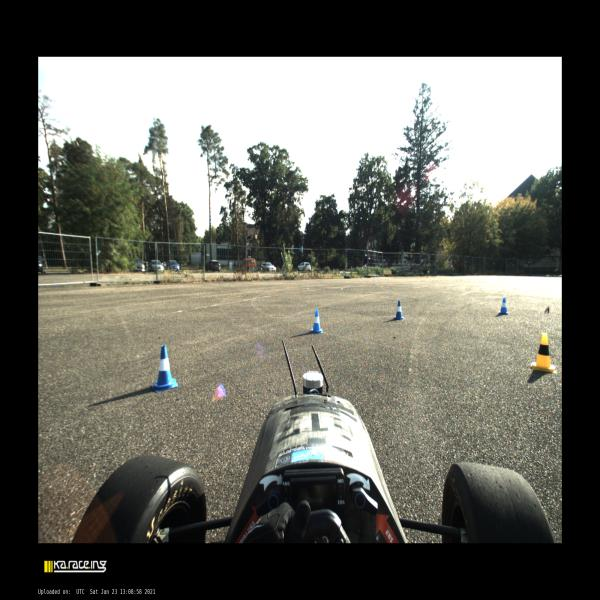blue_cone: (152, 345, 178, 392), (311, 310, 323, 334), (394, 300, 404, 320), (498, 298, 508, 315)
yellow_cone: (531, 332, 556, 373)
